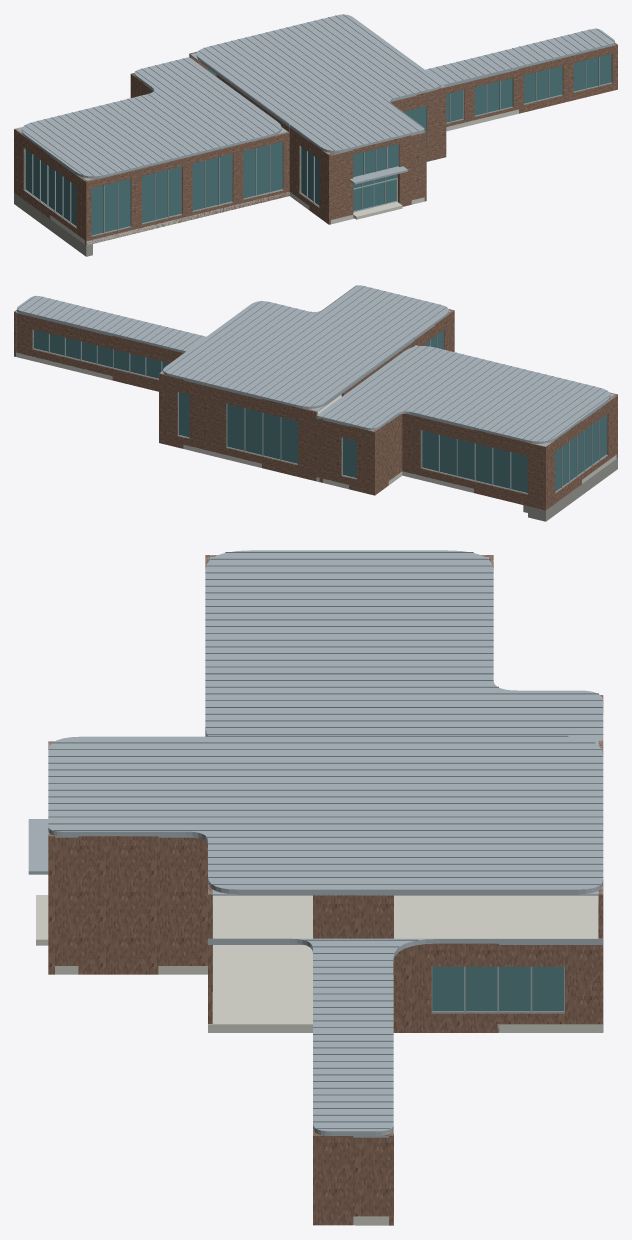
3 views of the same model, one above another, from view 1: azimuth 30°, elevation 25°; view 2: azimuth 150°, elevation 25°; view 3: azimuth 270°, elevation 25° (orthographic). The views are drawn at different scales.
Parts seen in each view (by area): view 1: seyeon-common__entranceHallRoundedMetalRoof, seyeon-common__westHallRoundedMetalRoof, seyeon-common__brick, seyeon-common__glass, seyeon-common__standingSeams, seyeon-common__eastLinkRoundedMetalRoof, seyeon-common__frame, seyeon-common__entryPiers, seyeon-common__commonFoundation, seyeon-common__mainDoorGlass, seyeon-common__upperEntryGlass, seyeon-common__foundationRetainingSkirt_astra10 (+2 smaller); view 2: seyeon-common__brick, seyeon-common__entranceHallRoundedMetalRoof, seyeon-common__westHallRoundedMetalRoof, seyeon-common__glass, seyeon-common__standingSeams, seyeon-common__eastLinkRoundedMetalRoof, seyeon-common__frame, seyeon-common__westHallSide, seyeon-common__commonFoundation, seyeon-common__foundationRetainingSkirt_astra10; view 3: seyeon-common__entranceHallRoundedMetalRoof, seyeon-common__westHallRoundedMetalRoof, seyeon-common__standingSeams, seyeon-common__commonFoundation, seyeon-common__entranceHallSide, seyeon-common__eastLinkRoundedMetalRoof, seyeon-common__brick, seyeon-common__eastLinkSide, seyeon-common__glass, seyeon-common__eastRoofStep, seyeon-common__entryCanopy, seyeon-common__entranceHallWeatherClosure (+1 smaller).
Boxes of the visible parts, box(x1,y1,x2,y2) form: seyeon-common__entranceHallRoundedMetalRoof: box(196, 14, 441, 152); seyeon-common__westHallRoundedMetalRoof: box(21, 57, 281, 178); seyeon-common__brick: box(14, 44, 617, 245); seyeon-common__glass: box(25, 54, 611, 235); seyeon-common__standingSeams: box(21, 14, 614, 176); seyeon-common__eastLinkRoundedMetalRoof: box(425, 28, 614, 86); seyeon-common__frame: box(24, 54, 612, 236); seyeon-common__entryPiers: box(327, 132, 424, 219); seyeon-common__commonFoundation: box(50, 109, 518, 245); seyeon-common__mainDoorGlass: box(353, 174, 396, 211); seyeon-common__upperEntryGlass: box(353, 144, 397, 176); seyeon-common__foundationRetainingSkirt_astra10: box(14, 193, 92, 256); seyeon-common__brick: box(15, 310, 617, 510); seyeon-common__entranceHallRoundedMetalRoof: box(163, 285, 448, 408); seyeon-common__westHallRoundedMetalRoof: box(317, 346, 610, 443); seyeon-common__glass: box(34, 330, 606, 492); seyeon-common__standingSeams: box(17, 285, 610, 441); seyeon-common__eastLinkRoundedMetalRoof: box(17, 296, 205, 352); seyeon-common__frame: box(33, 330, 607, 493); seyeon-common__westHallSide: box(373, 414, 402, 495); seyeon-common__commonFoundation: box(16, 352, 616, 492); seyeon-common__foundationRetainingSkirt_astra10: box(523, 458, 617, 521); seyeon-common__entranceHallRoundedMetalRoof: box(48, 736, 603, 894); seyeon-common__westHallRoundedMetalRoof: box(205, 550, 603, 740); seyeon-common__standingSeams: box(48, 552, 603, 1128); seyeon-common__commonFoundation: box(55, 895, 602, 1225); seyeon-common__entranceHallSide: box(48, 834, 207, 974); seyeon-common__eastLinkRoundedMetalRoof: box(208, 938, 602, 1135); seyeon-common__brick: box(48, 555, 603, 1225); seyeon-common__eastLinkSide: box(313, 1134, 393, 1225); seyeon-common__glass: box(432, 966, 563, 1011); seyeon-common__eastRoofStep: box(313, 894, 393, 938); seyeon-common__entryCanopy: box(28, 819, 48, 874); seyeon-common__entranceHallWeatherClosure: box(48, 740, 603, 895).
Bounding box in the file's own units: 60.55 × 8.63 × 27.07.
8 materials, 1 textured.
